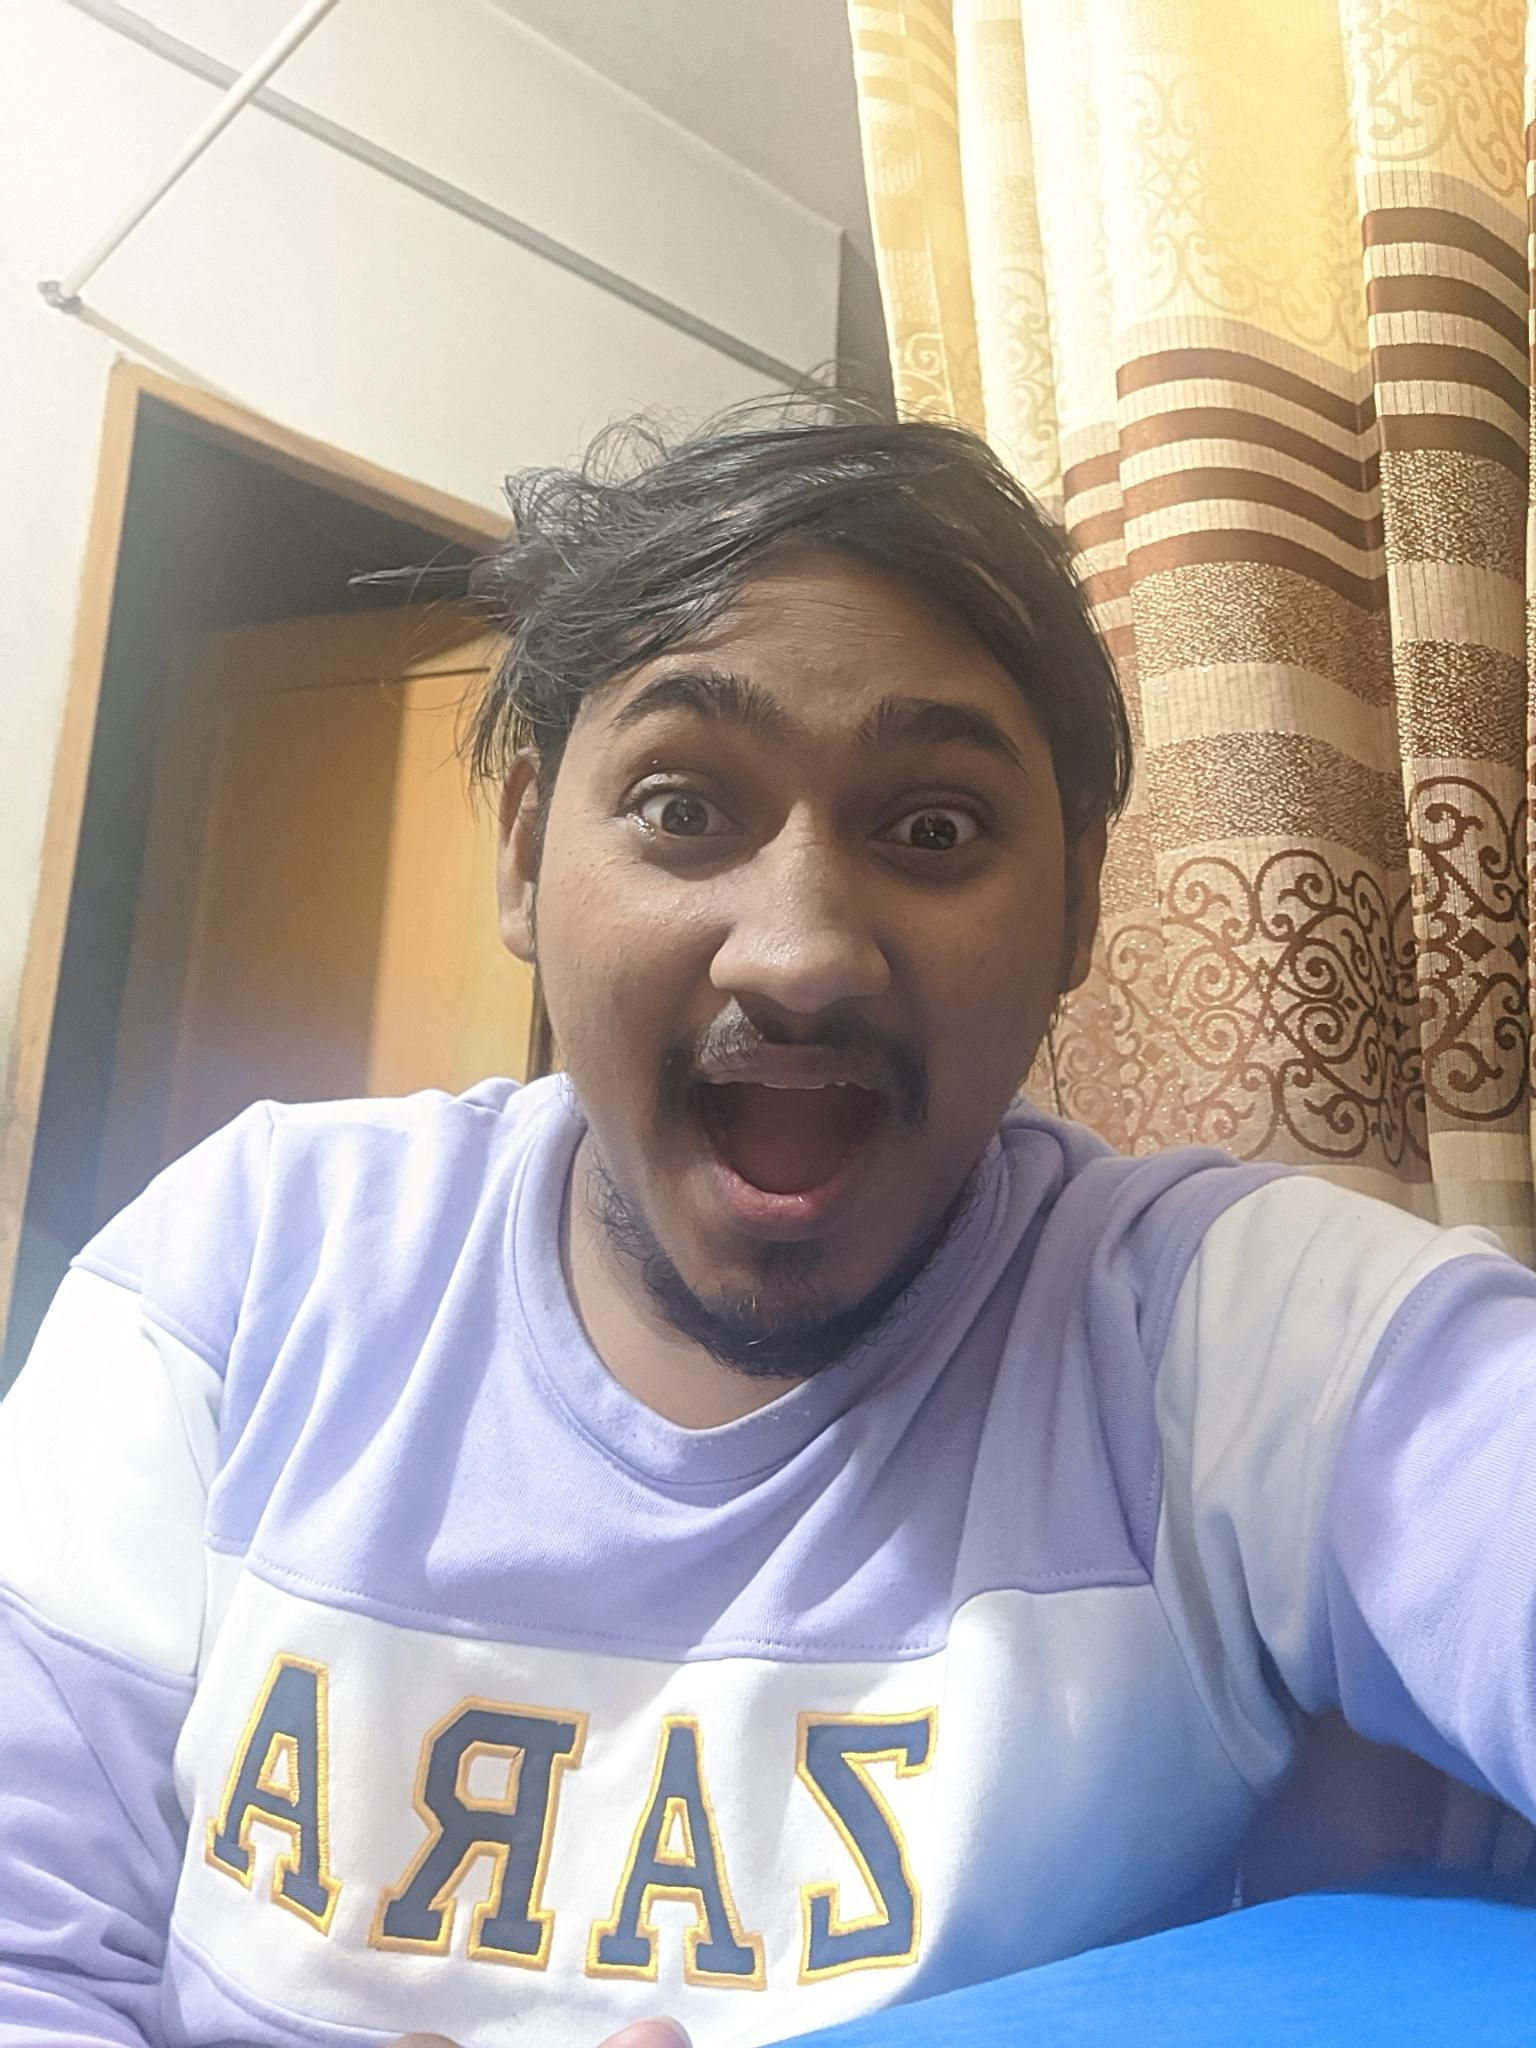Surprise: (516, 579, 1073, 1337)
